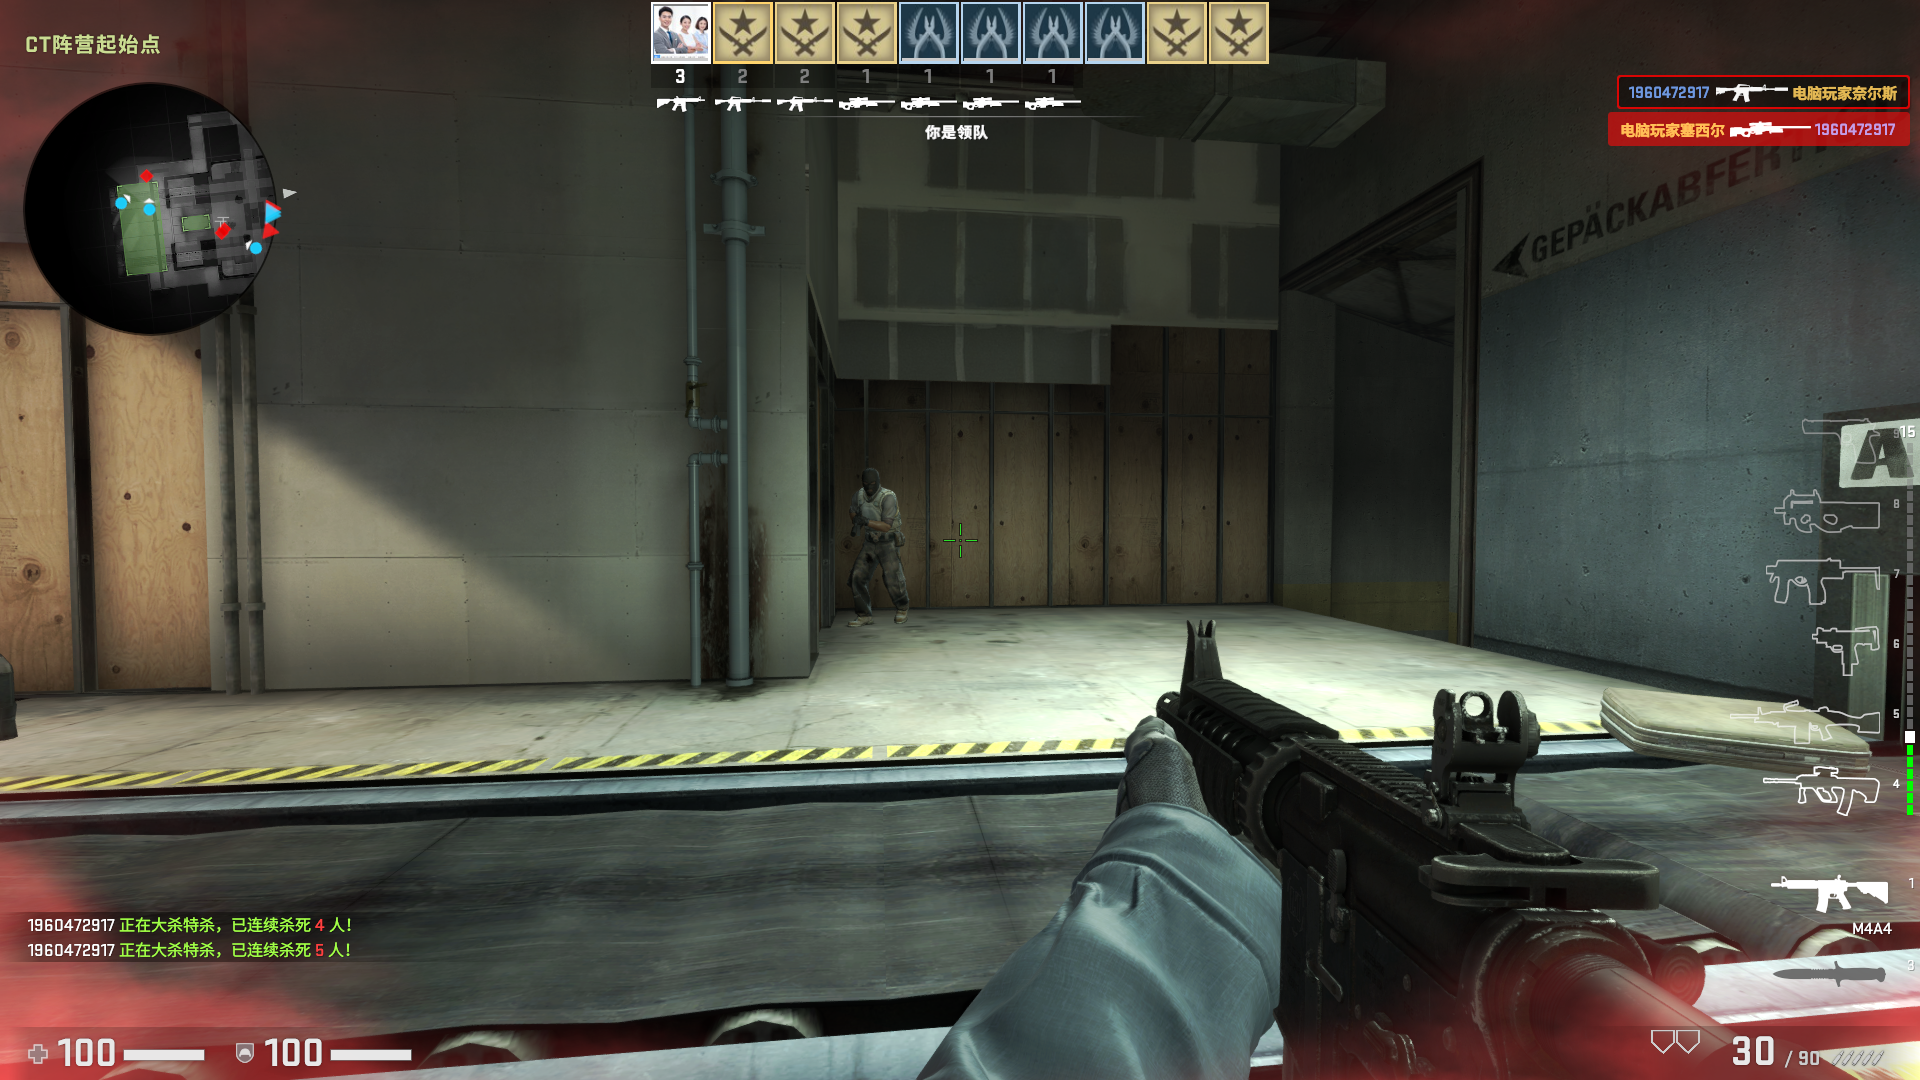person: (839, 466, 908, 618)
